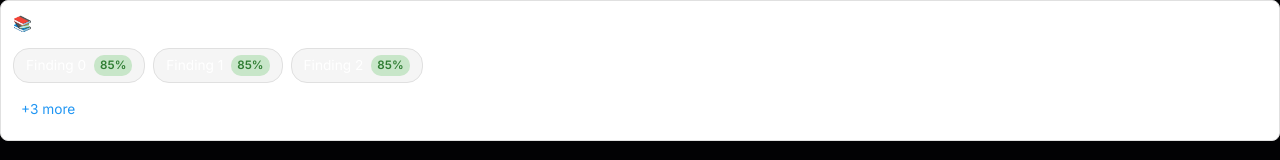
ResearchChips › collapses back when "Show less" clicked
Click the button "+3 more" at [48, 109], box [13,91,83,128]
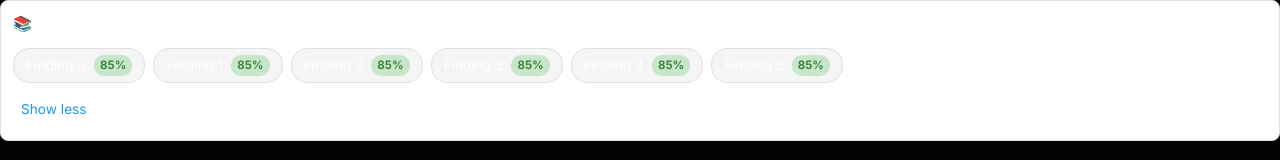
Click the button "Show less" at [54, 109], box [13,91,95,128]
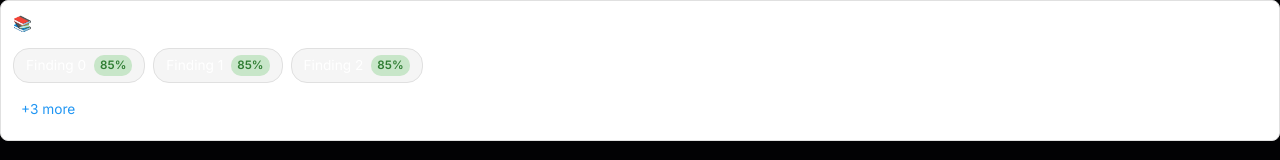
Expected: the button "+3 more" is shown, [13,91,83,128]
